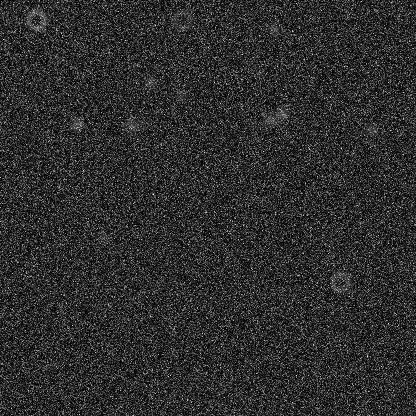Ring: (170, 7, 194, 31), (24, 7, 48, 31), (328, 269, 352, 293)
Spot: (124, 117, 140, 133), (141, 74, 157, 90), (173, 86, 189, 102), (363, 122, 379, 138), (69, 116, 85, 132), (95, 229, 111, 245), (274, 105, 290, 121), (262, 112, 278, 128), (265, 21, 281, 37)
